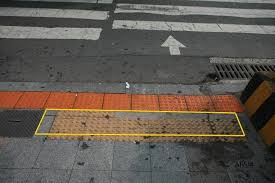guide_blocks: (53, 111, 241, 139), (3, 92, 242, 113)
